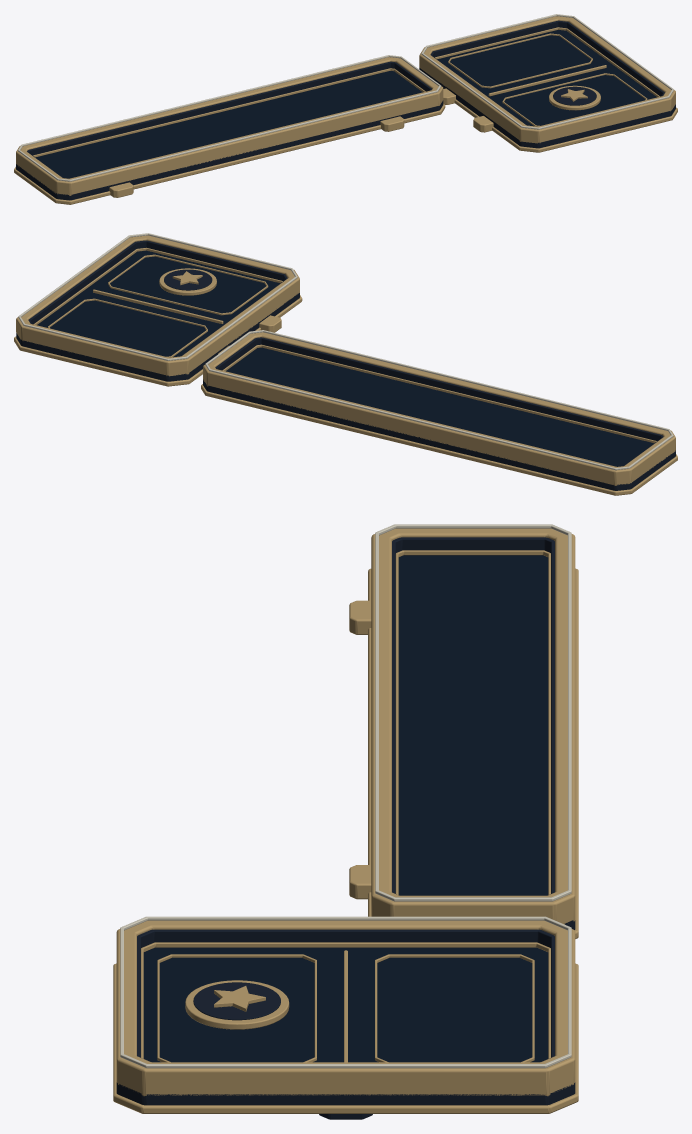
File: identity-addon.glb
3 renders of one model, top to bottom at view 1: azimuth 30°, elevation 25°; view 2: azimuth 150°, elevation 25°; view 3: azimuth 270°, elevation 25°, orthographic. The views are drawn at different scales.
Parts seen in each view (by area): view 1: Recessed navy face, Raised forged bezel, Raised forged bezel.001, RANK_SOCKET inner bed, Inner ink reveal, MEDAL_SOCKET inner bed, Recessed navy face.001, Warm silver chamfer highlight, Enamel structural casing, Lower champagne stepped plinth, Inner ink reveal.001, Warm silver chamfer highlight.001 (+9 smaller); view 2: Recessed navy face, Raised forged bezel, Raised forged bezel.001, RANK_SOCKET inner bed, MEDAL_SOCKET inner bed, Inner ink reveal, Recessed navy face.001, Enamel structural casing, Warm silver chamfer highlight, Lower champagne stepped plinth, Inner ink reveal.001, Warm silver chamfer highlight.001 (+9 smaller); view 3: Recessed navy face, Raised forged bezel.001, Raised forged bezel, RANK_SOCKET inner bed, Recessed navy face.001, MEDAL_SOCKET inner bed, Inner ink reveal.001, Warm silver chamfer highlight.001, Enamel structural casing.001, Lower champagne stepped plinth.001, Inner ink reveal, Warm silver chamfer highlight (+7 smaller).
Part boxes in pixels (bbox=[...]): Recessed navy face: bbox=[35, 71, 422, 178]; Raised forged bezel: bbox=[16, 57, 443, 195]; Raised forged bezel.001: bbox=[419, 16, 675, 143]; RANK_SOCKET inner bed: bbox=[450, 35, 590, 86]; Inner ink reveal: bbox=[27, 61, 431, 177]; MEDAL_SOCKET inner bed: bbox=[504, 75, 645, 125]; Recessed navy face.001: bbox=[437, 30, 656, 126]; Warm silver chamfer highlight: bbox=[18, 55, 441, 181]; Enamel structural casing: bbox=[16, 100, 443, 200]; Lower champagne stepped plinth: bbox=[14, 104, 445, 204]; Inner ink reveal.001: bbox=[430, 20, 664, 125]; Warm silver chamfer highlight.001: bbox=[421, 14, 673, 129]; Recessed navy face: bbox=[226, 347, 653, 466]; Raised forged bezel: bbox=[203, 332, 675, 485]; Raised forged bezel.001: bbox=[16, 235, 299, 376]; RANK_SOCKET inner bed: bbox=[50, 300, 205, 356]; MEDAL_SOCKET inner bed: bbox=[110, 256, 265, 313]; Inner ink reveal: bbox=[215, 337, 663, 466]; Recessed navy face.001: bbox=[37, 250, 279, 357]; Enamel structural casing: bbox=[203, 379, 675, 490]; Warm silver chamfer highlight: bbox=[205, 330, 673, 470]; Lower champagne stepped plinth: bbox=[201, 384, 677, 495]; Inner ink reveal.001: bbox=[28, 240, 287, 356]; Warm silver chamfer highlight.001: bbox=[18, 233, 297, 360]; Recessed navy face: bbox=[398, 555, 548, 895]; Raised forged bezel.001: bbox=[116, 920, 575, 1096]; Raised forged bezel: bbox=[371, 528, 575, 924]; RANK_SOCKET inner bed: bbox=[377, 957, 532, 1062]; Recessed navy face.001: bbox=[143, 947, 548, 1062]; MEDAL_SOCKET inner bed: bbox=[159, 957, 314, 1062]; Inner ink reveal.001: bbox=[137, 929, 554, 1057]; Warm silver chamfer highlight.001: bbox=[120, 916, 571, 1068]; Enamel structural casing.001: bbox=[116, 1082, 575, 1105]; Lower champagne stepped plinth.001: bbox=[113, 963, 578, 1113]; Inner ink reveal: bbox=[392, 537, 554, 894]; Warm silver chamfer highlight: bbox=[375, 524, 571, 901].
Size of the model in its own units: 0.381 by 0.023 by 0.137.
